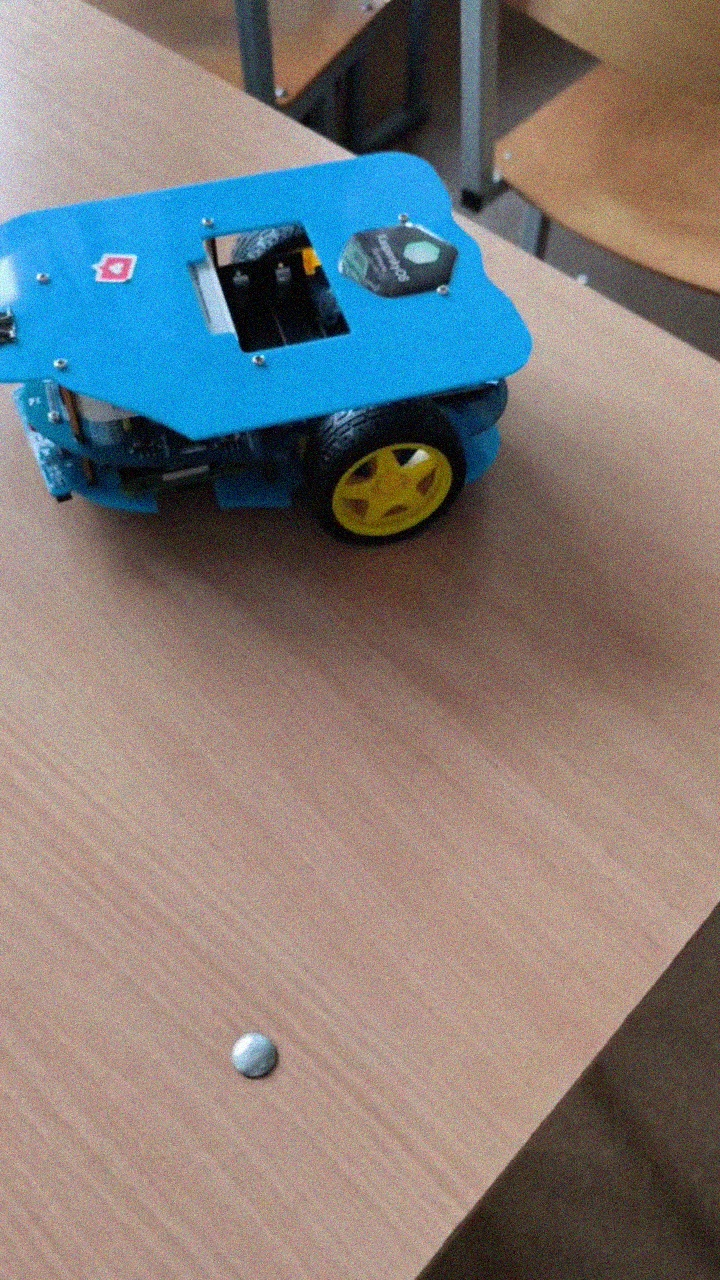robot: (1, 150, 534, 548)
